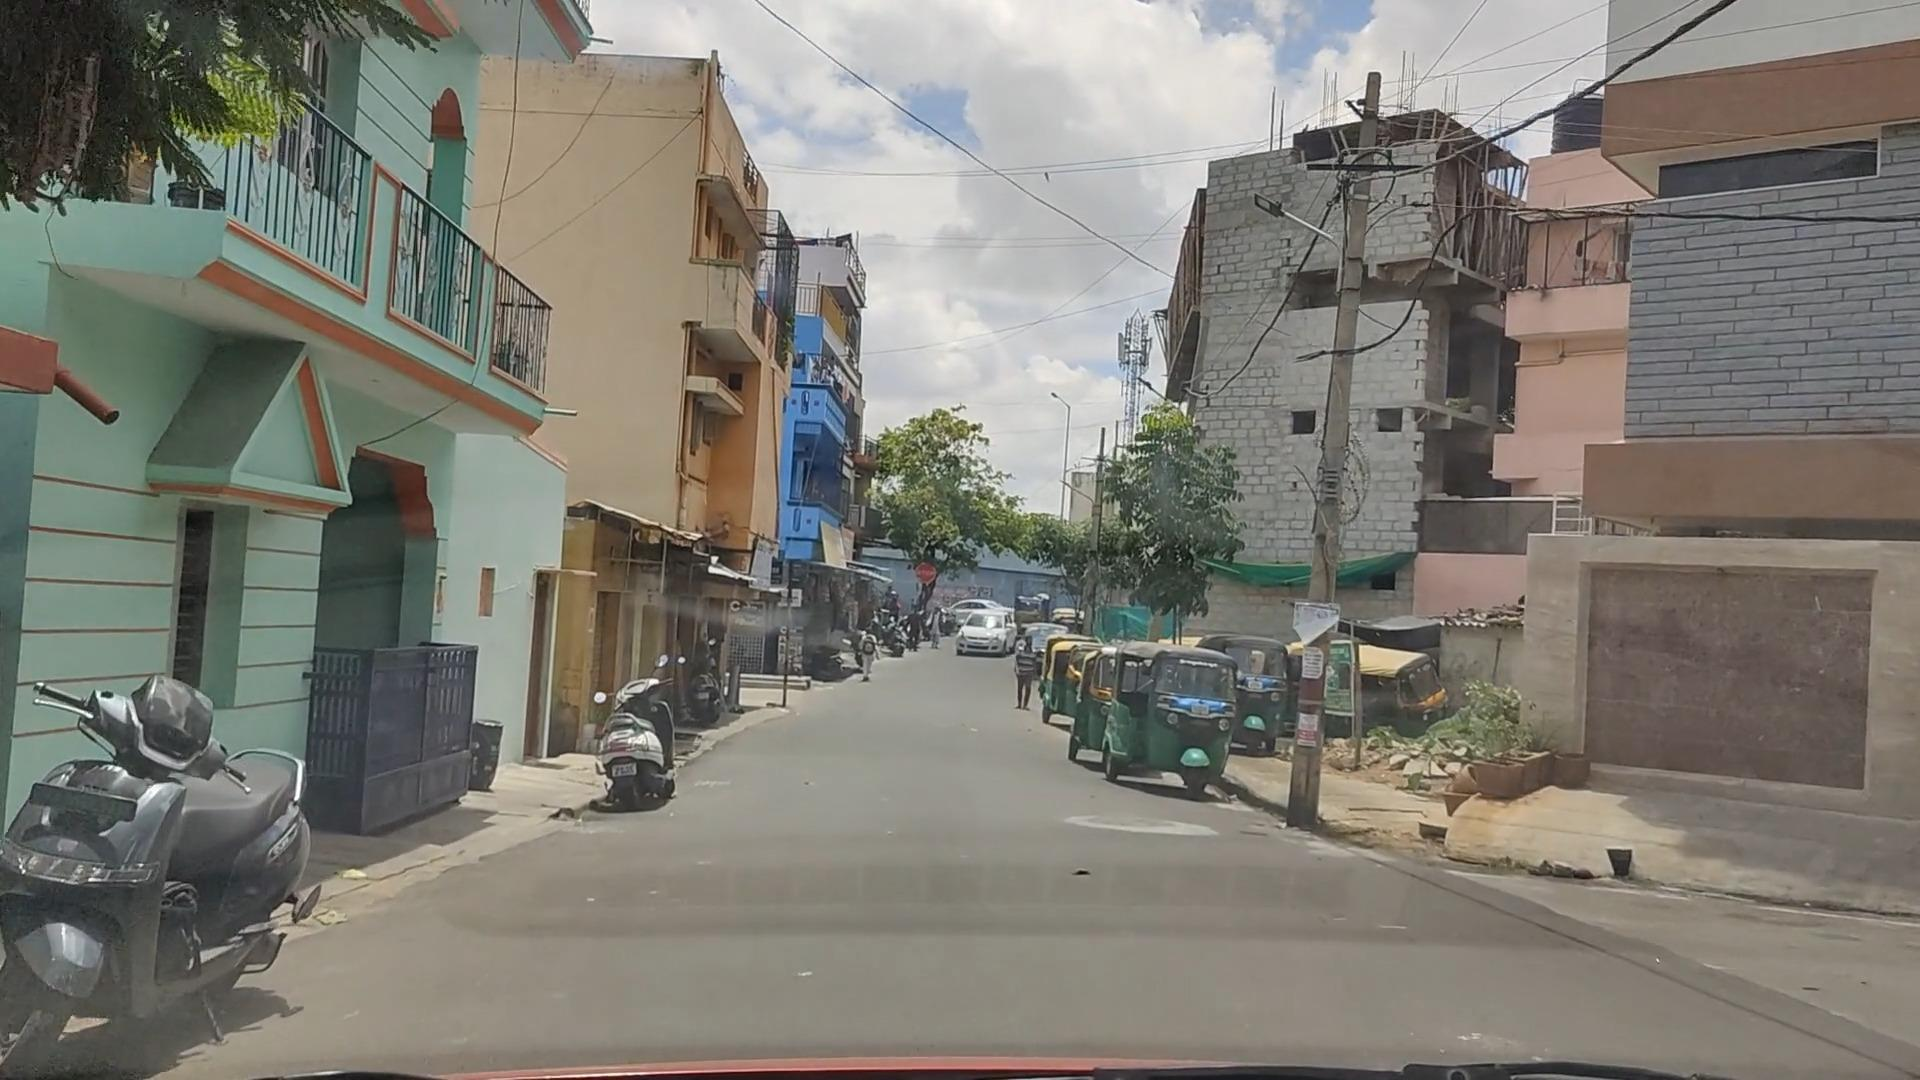LMV: (1110, 654, 1225, 785)
RoadDamages: (1052, 803, 1212, 847)
